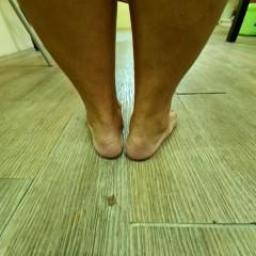Back View -Both Feet-: (68, 80, 186, 171)
